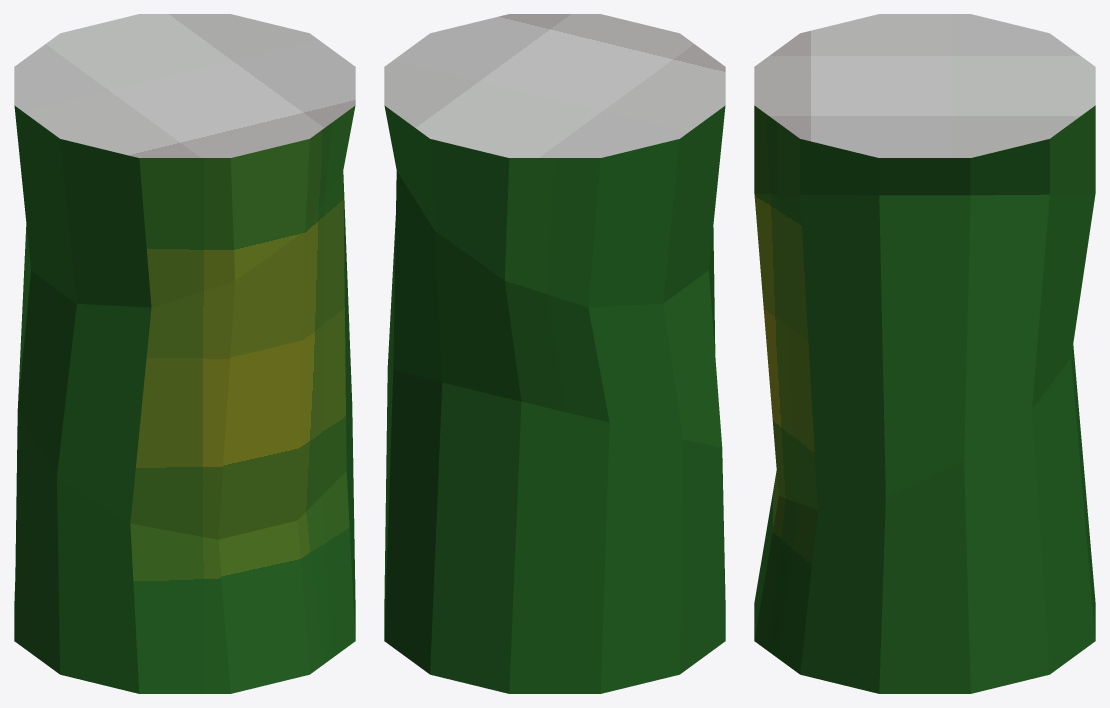
File: Sodacan.fbx
3 views of the same model, side by side, from view 1: azimuth 30°, elevation 25°; view 2: azimuth 150°, elevation 25°; view 3: azimuth 270°, elevation 25° (orthographic).
Parts seen in each view (by area): view 1: cylinder; view 2: cylinder; view 3: cylinder.
Part boxes in pixels (<box>): cylinder: <box>14,14,355,693</box>; cylinder: <box>384,14,725,693</box>; cylinder: <box>754,14,1095,693</box>.
Bounding box in the file's own units: 9.38 × 16.25 × 9.38.
1 material, 1 textured.
